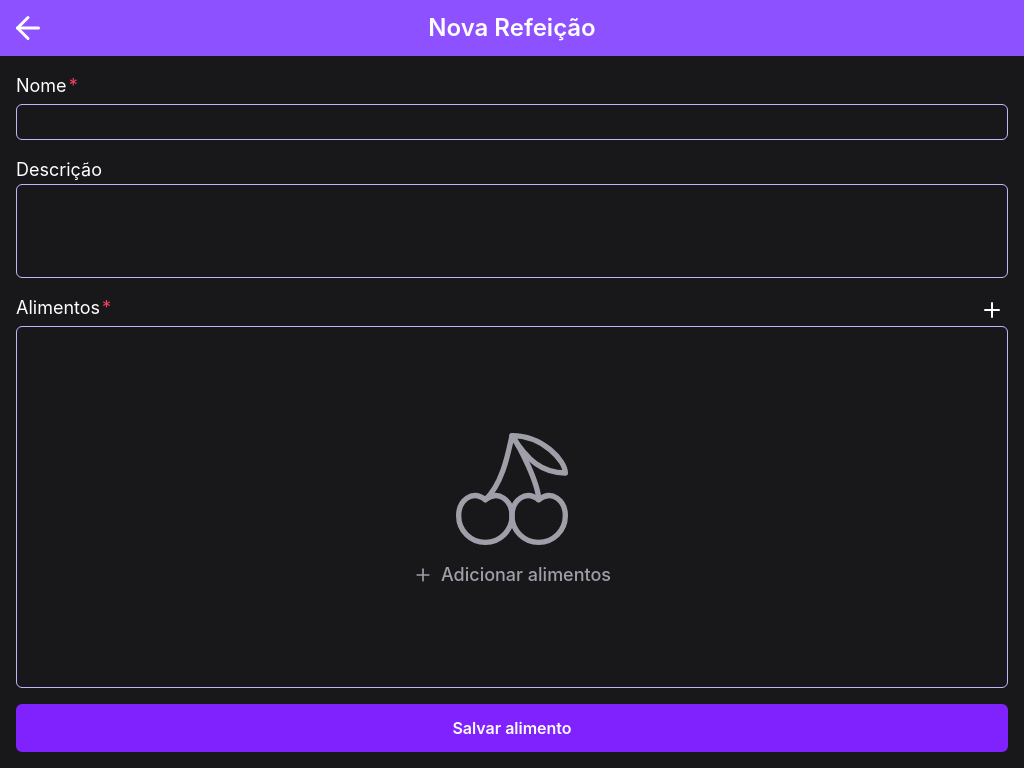
Test case: <CreateMealPage /> › should remove a food from the list correctly
Click the button with test id "add-food-button": (992, 310) [976,294,1008,326]
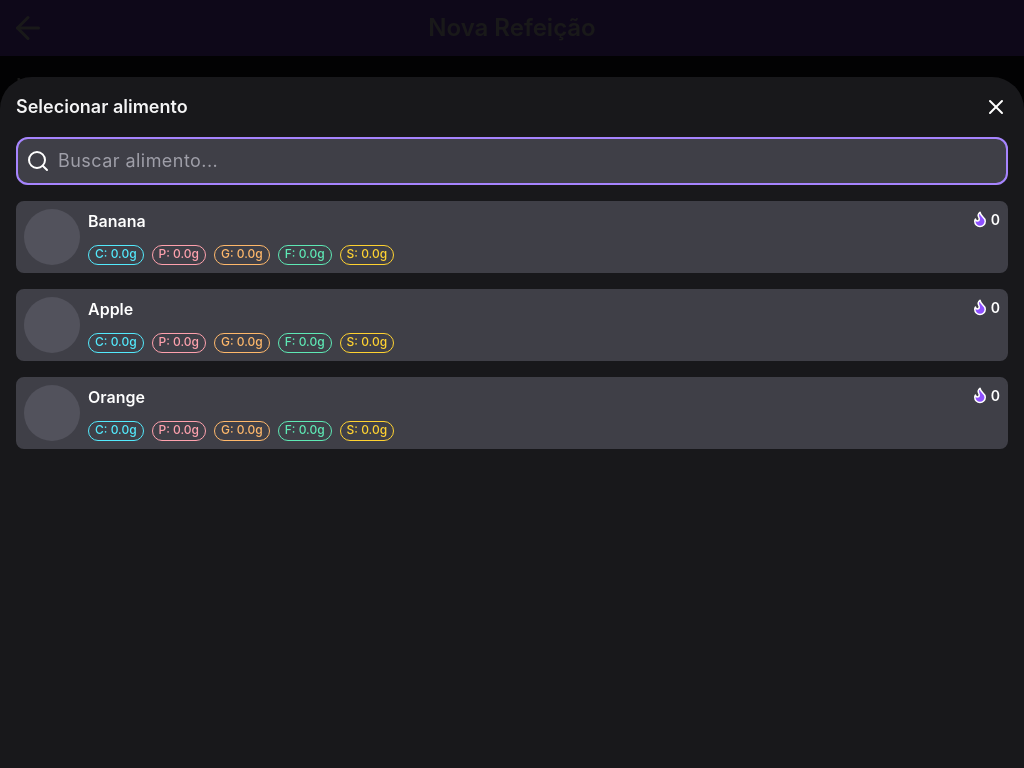
Click the element with test id "food-list-item" that starts with "Banana": (512, 237) [16,201,1008,273]
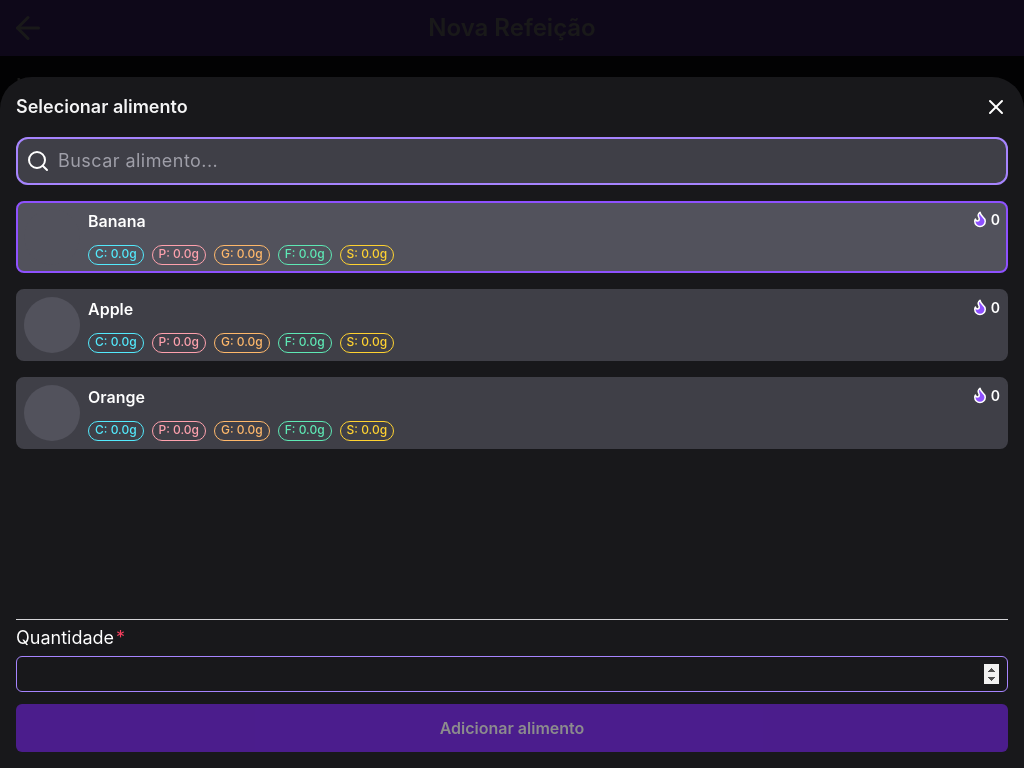
In the number field with test id "quantity-input": (512, 674) [16,656,1008,692], type "100"
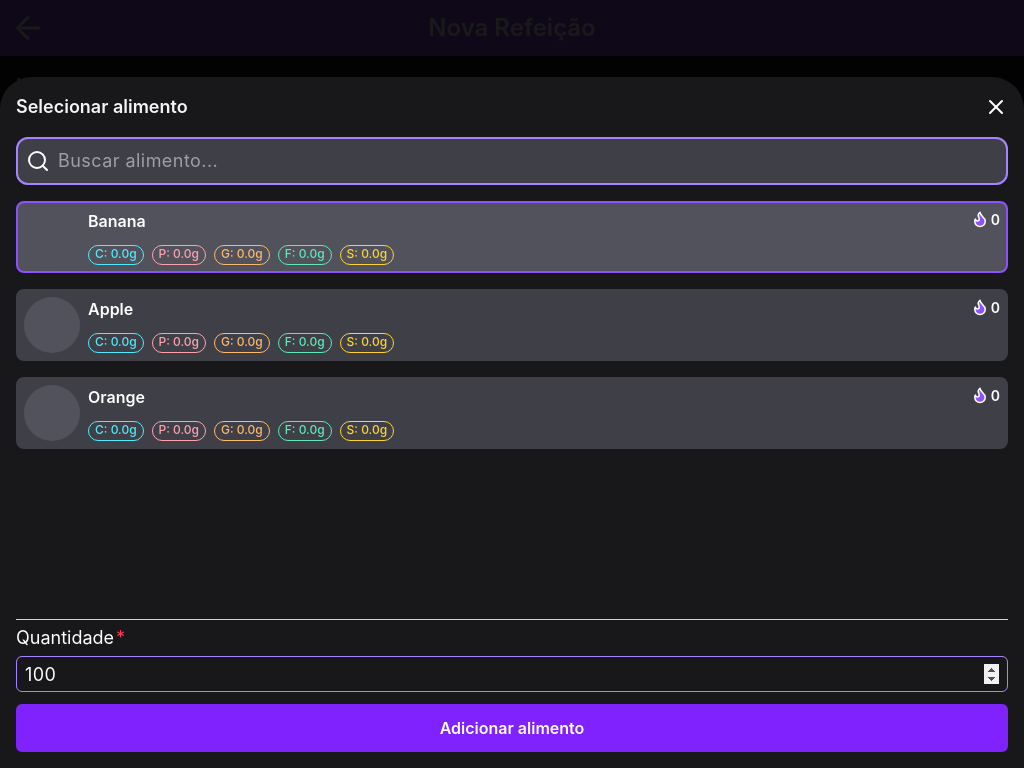
Click the button with test id "submit-button": (512, 728) [16,704,1008,752]
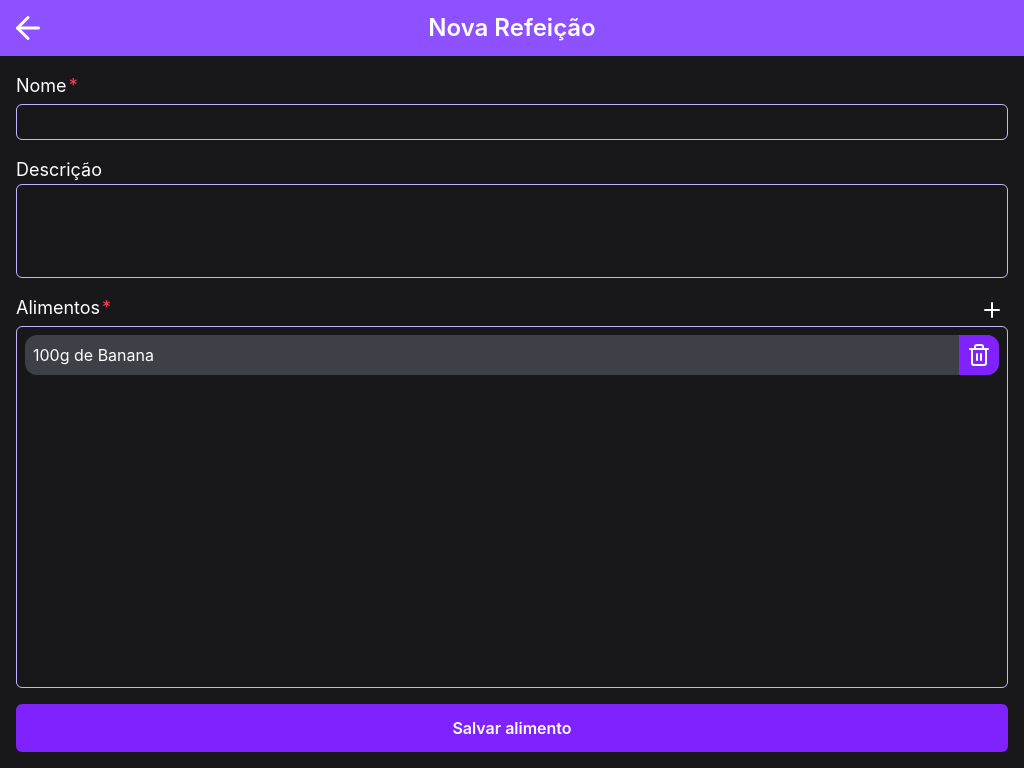
Result: the text "100g de Banana" is shown at [25,343,162,367]
Click the button with test id "remove-food-button": (979, 355) [959,335,999,375]
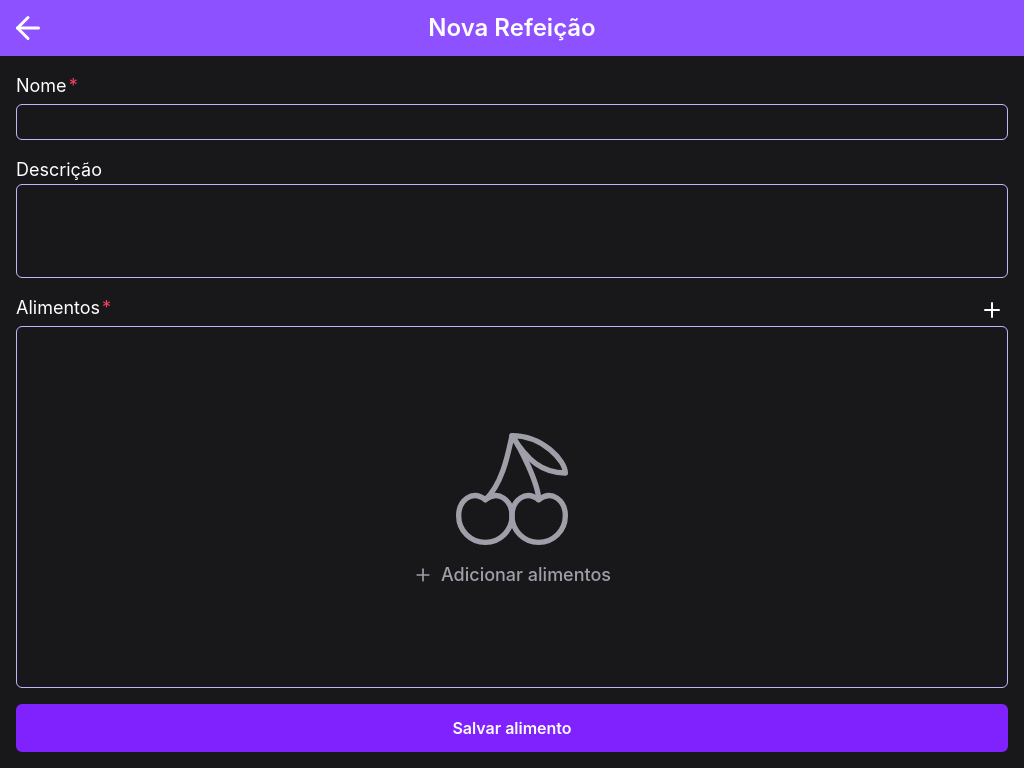
Result: the text "100g de Banana" is gone
